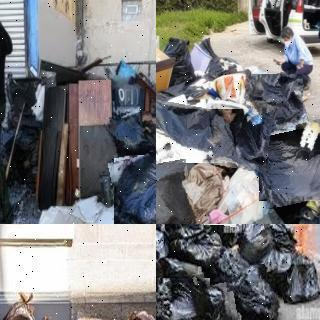Garbage: (156, 104, 271, 168), (255, 119, 320, 205), (248, 71, 306, 132), (226, 263, 285, 320), (111, 152, 156, 224), (156, 274, 212, 320), (156, 158, 195, 224), (271, 251, 320, 303), (106, 112, 156, 157), (179, 284, 238, 320), (168, 232, 223, 268), (237, 224, 274, 263), (0, 287, 38, 320), (156, 225, 171, 271)
